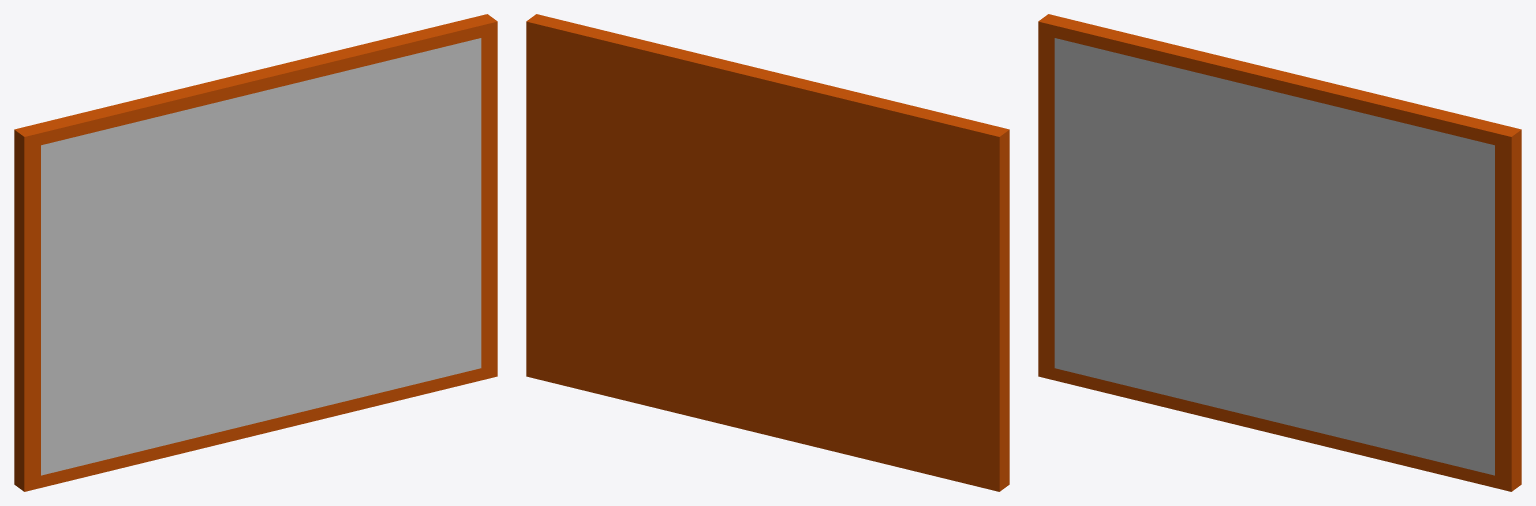
Rendered from painting.fbx.
The picture shows the model from 3 angles, left to right: view 1: azimuth 30°, elevation 25°; view 2: azimuth 150°, elevation 25°; view 3: azimuth 330°, elevation 25°; orthographic projection.
Parts seen in each view (by area): view 1: Cube; view 2: Cube; view 3: Cube.
Part boxes in pixels (x1=…): Cube: x1=14, y1=14, x2=497, y2=491; Cube: x1=526, y1=14, x2=1009, y2=491; Cube: x1=1038, y1=14, x2=1521, y2=491.
Size of the model in its own units: 5.2 by 3.72 by 0.196.
